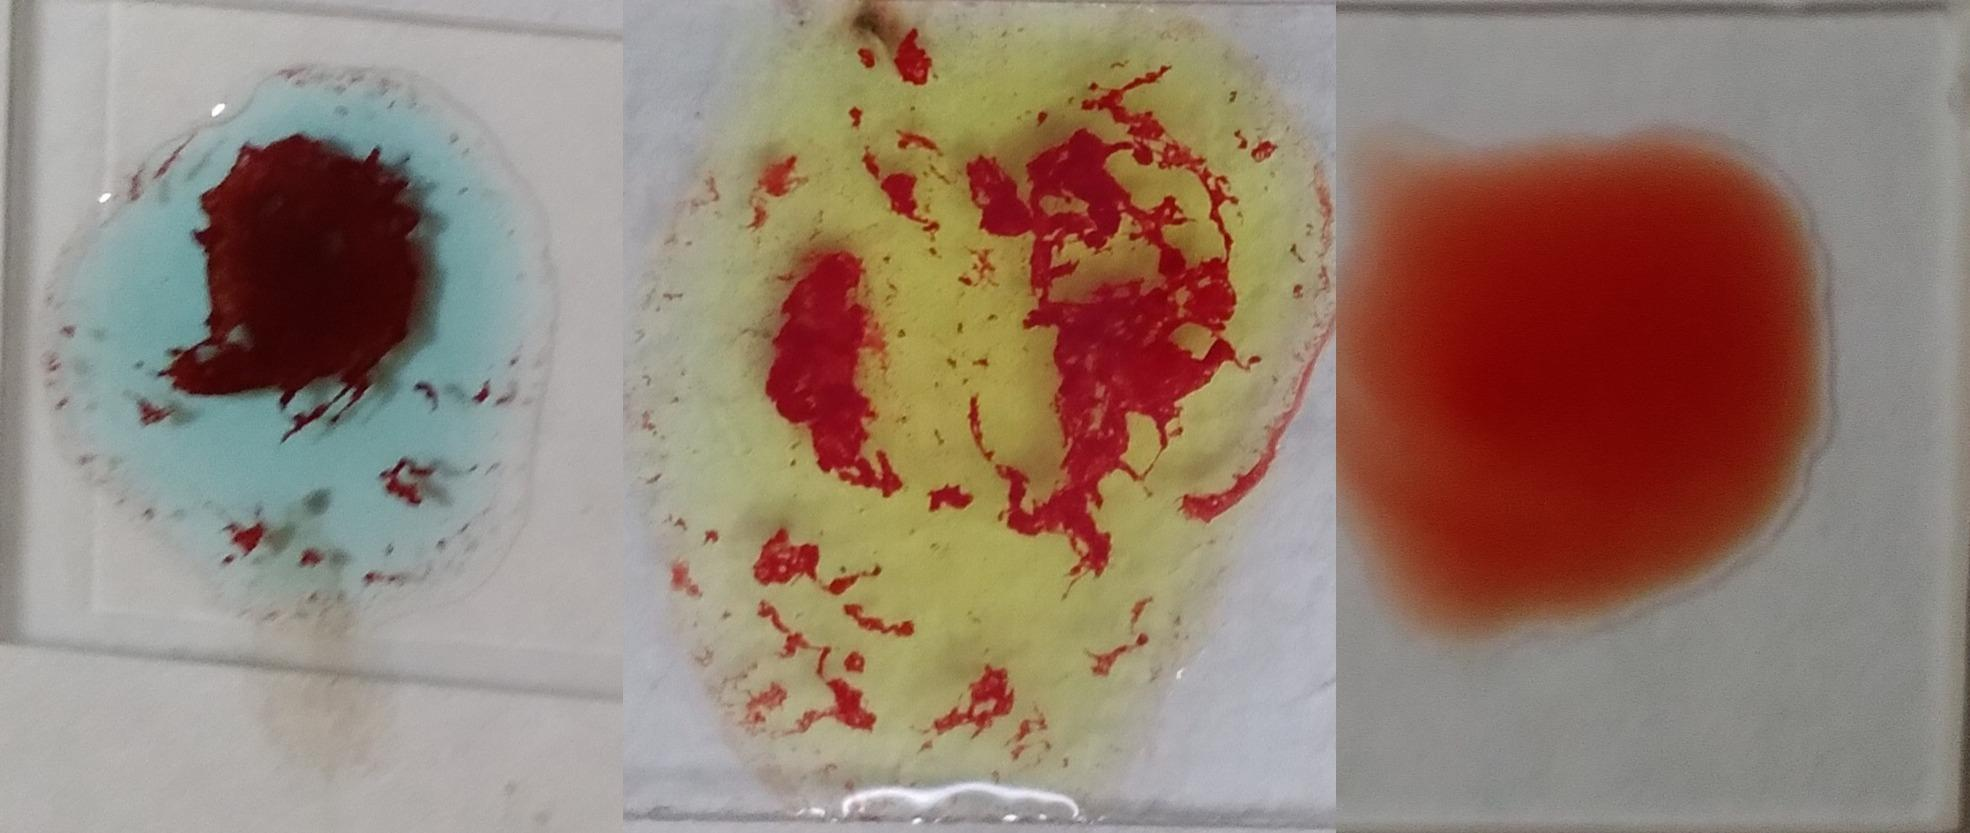A: (38, 57, 548, 614)
B: (652, 8, 1310, 824)
